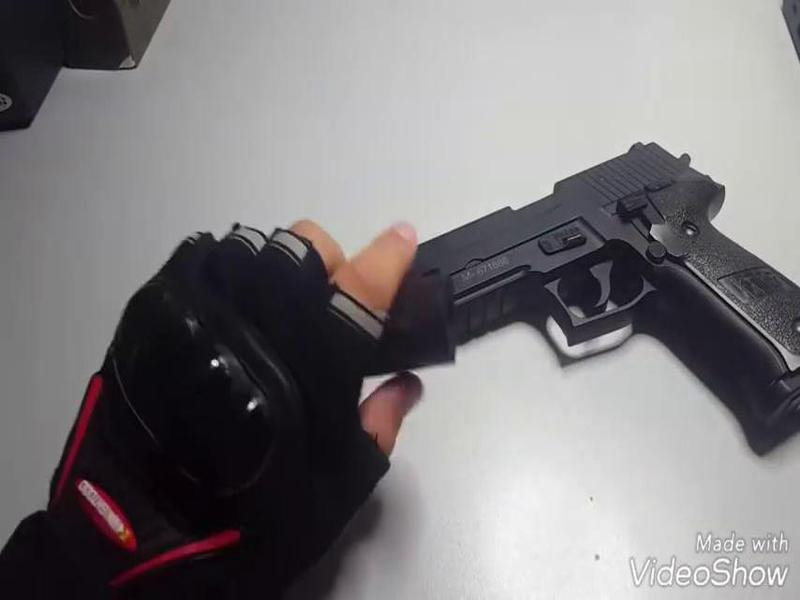Pistola: (409, 136, 800, 403)
